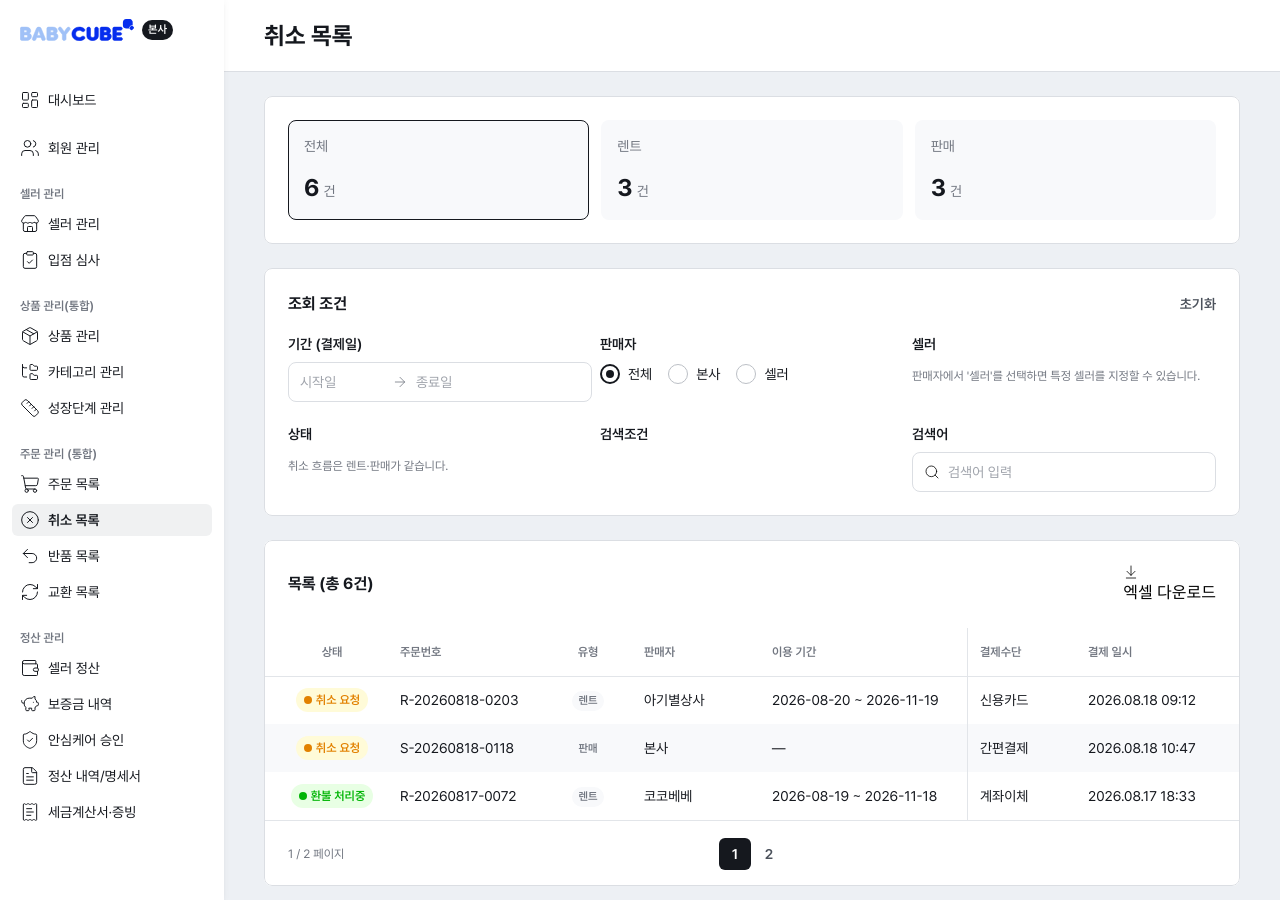
Scenario: OrderCancelListPage (BabyCube S09 취소 목록) › 빈 상태와 초기화 › 카드 헤더의 초기화도 같은 일을 한다
What coordinates should you click on to do the following:
click the button "판매 3 건"
I would click on:
 (943, 146)
Its box is x1=915 y1=120 x2=1216 y2=220.
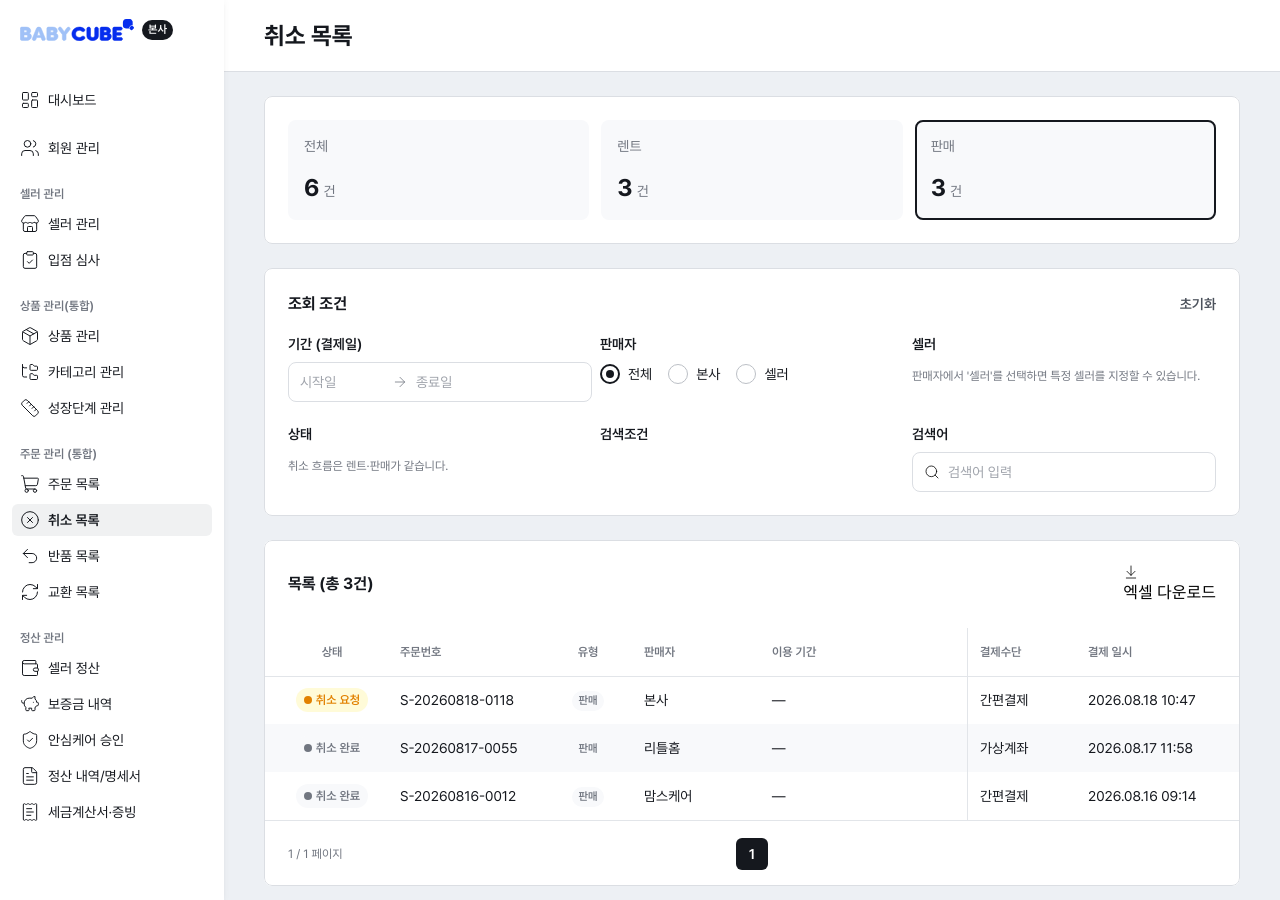
What coordinates should you click on to do the following:
click the button "초기화"
I would click on:
 (1198, 304)
Its box is x1=1180 y1=292 x2=1216 y2=316.
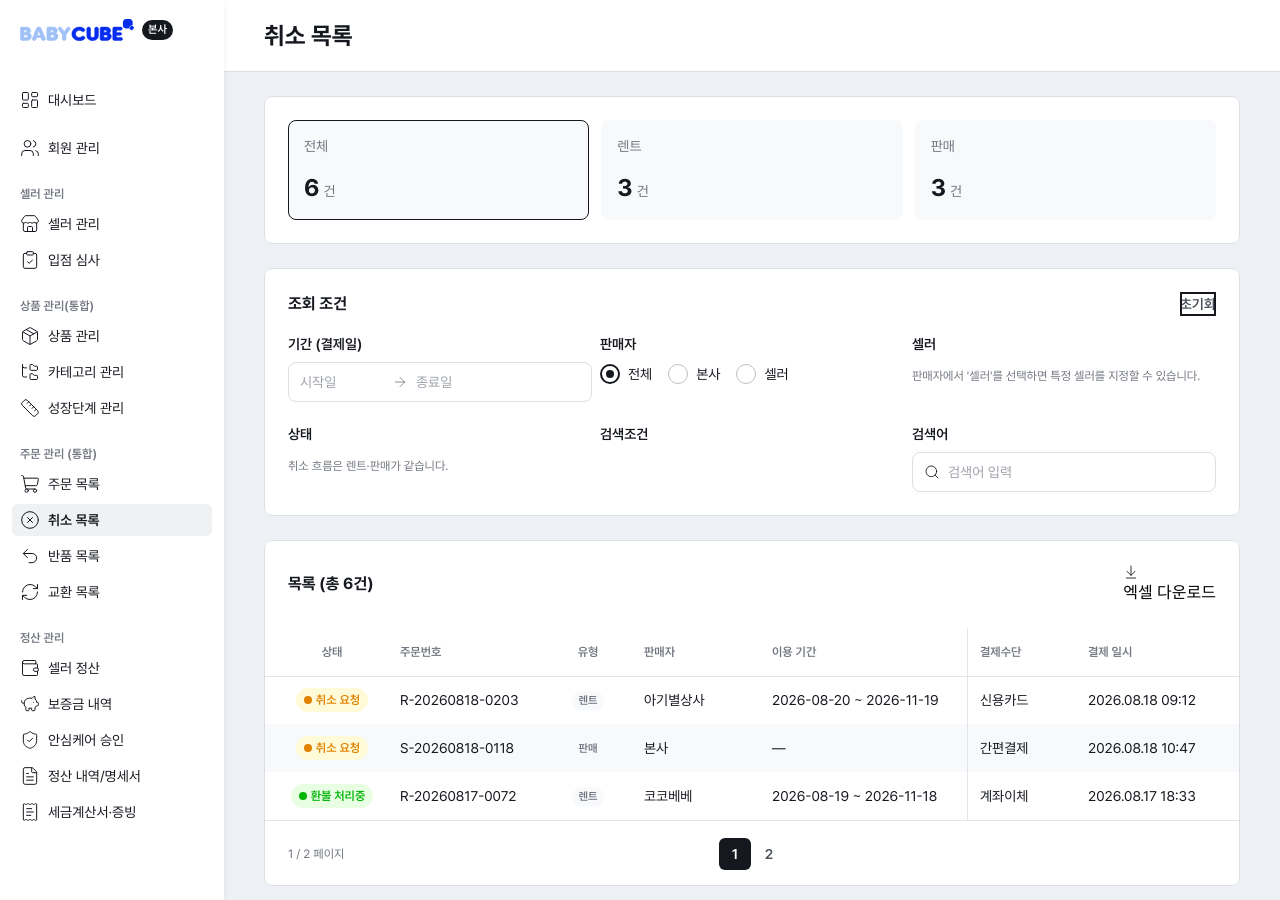
Now the heading "목록 (총 6건)" is shown, box x1=288 y1=572 x2=373 y2=596
